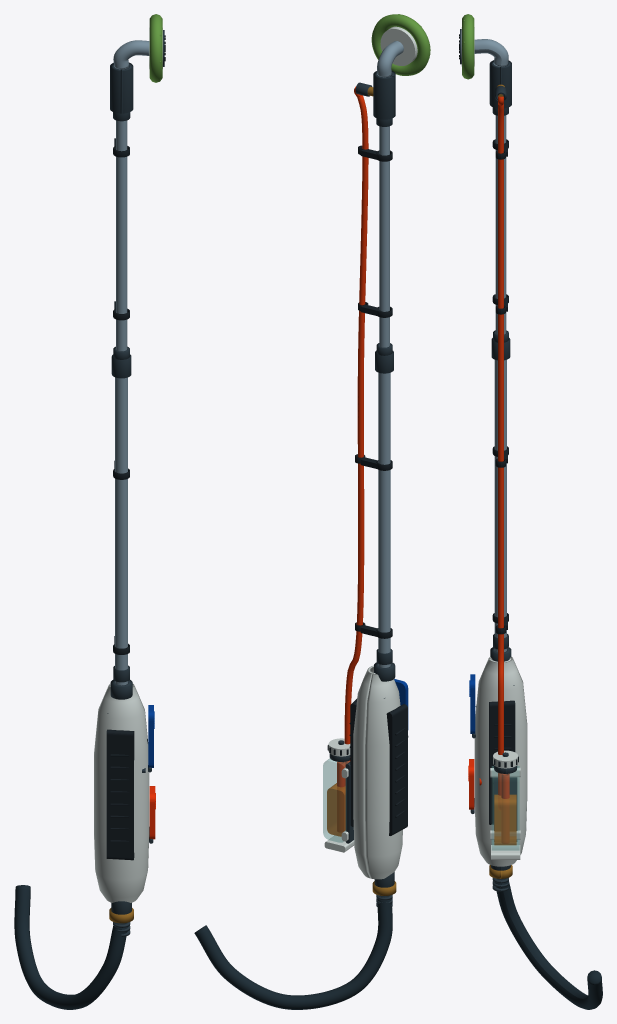
Rendered from shower-C2.obj.
The picture shows the model from 3 angles, left to right: view 1: azimuth 90°, elevation 25°; view 2: azimuth 150°, elevation 25°; view 3: azimuth 270°, elevation 25°; orthographic projection. The views are drawn at different scales.
Visible parts, largest first — view 1: Cangkang_kiri, Selang_air_fleksibel, Batang_bawah_asli, Grip_kiri, Batang_atas_asli, Kolar_pipa, Spons_cincin, Siku_pancuran, Badan_Venturi_depan, Badan_Venturi_belakang, Cincin_klip, Bidang_tekan_AIR (+1 smaller); view 2: Cangkang_kiri, Selang_air_fleksibel, Selang_oranye_ke_Venturi, Batang_bawah_asli, Cangkang_kanan, Grip_kiri, Batang_atas_asli, Botol_kartrid, Spons_cincin, Kolar_pipa, Badan_Venturi_belakang, Isi_sabun (+5 smaller); view 3: Cangkang_kanan, Selang_oranye_ke_Venturi, Selang_air_fleksibel, Botol_kartrid, Batang_bawah_asli, Grip_kanan, Isi_sabun, Batang_atas_asli, Spons_cincin, Kolar_pipa, Siku_pancuran, Pipa_pickup (+4 smaller).
Boxes of the visible parts, box(x1,y1,x2,y2) form: Cangkang_kiri: box(94, 685, 149, 902); Selang_air_fleksibel: box(14, 885, 128, 1009); Batang_bawah_asli: box(115, 377, 127, 685); Grip_kiri: box(106, 729, 134, 860); Batang_atas_asli: box(116, 120, 127, 351); Kolar_pipa: box(110, 112, 132, 699); Spons_cincin: box(149, 14, 162, 82); Siku_pancuran: box(113, 40, 149, 69); Badan_Venturi_depan: box(121, 62, 133, 113); Badan_Venturi_belakang: box(110, 63, 121, 113); Cincin_klip: box(113, 146, 129, 654); Bidang_tekan_AIR: box(148, 705, 153, 767); Cangkang_kiri: box(365, 673, 402, 879); Selang_air_fleksibel: box(194, 895, 392, 1009); Selang_oranye_ke_Venturi: box(344, 95, 368, 764); Batang_bawah_asli: box(378, 372, 390, 667); Cangkang_kanan: box(353, 665, 373, 878); Grip_kiri: box(386, 704, 407, 835); Batang_atas_asli: box(379, 126, 389, 347); Botol_kartrid: box(323, 758, 349, 842); Spons_cincin: box(371, 14, 430, 75); Kolar_pipa: box(374, 118, 395, 681); Badan_Venturi_belakang: box(373, 72, 394, 119); Isi_sabun: box(327, 783, 345, 836); Cangkang_kanan: box(474, 659, 527, 866); Selang_oranye_ke_Venturi: box(498, 104, 503, 809); Selang_air_fleksibel: box(494, 878, 602, 1009); Botol_kartrid: box(491, 766, 519, 850); Batang_bawah_asli: box(494, 359, 506, 652); Grip_kanan: box(489, 700, 515, 824); Isi_sabun: box(494, 794, 516, 845); Batang_atas_asli: box(495, 115, 506, 334); Spons_cincin: box(462, 14, 474, 79); Kolar_pipa: box(490, 107, 511, 661); Siku_pancuran: box(474, 39, 508, 66); Pipa_pickup: box(501, 773, 509, 843).
Size of the model in its own units: 167 by 904 by 123.
